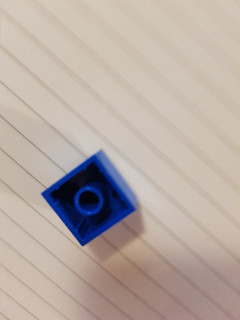2x2 blue: (39, 146, 140, 248)
